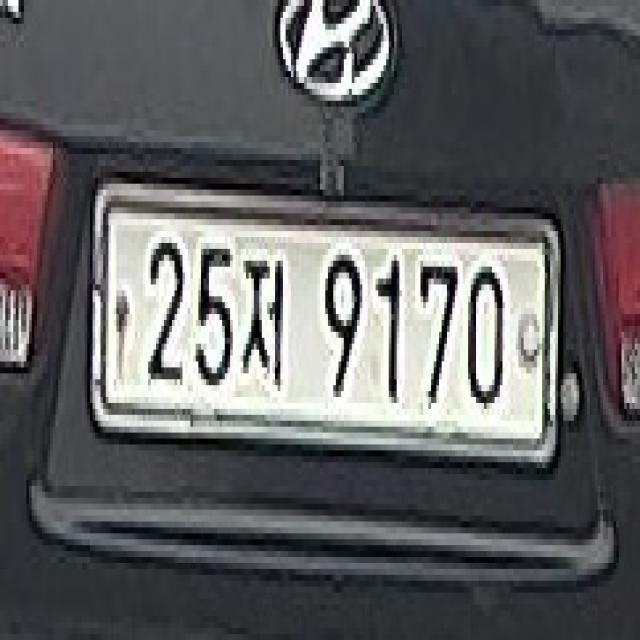plat: (87, 180, 563, 466)
